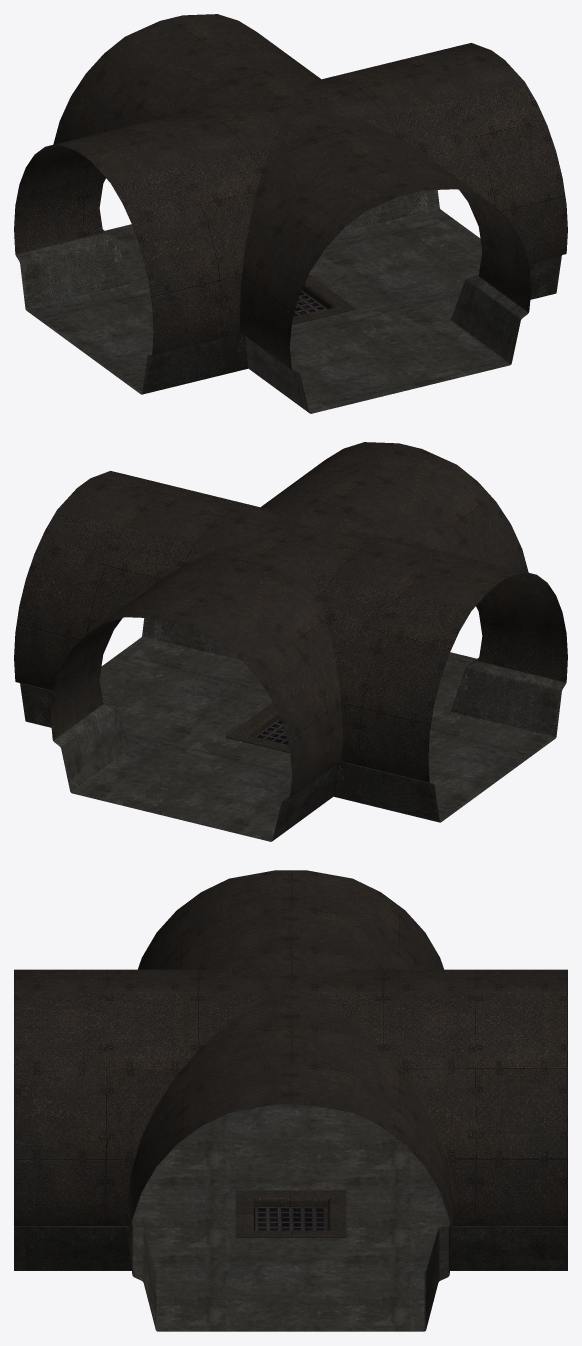
The model's file is tunnel_junction_four_way.glb.
3 views of the same model, one above another, from view 1: azimuth 30°, elevation 25°; view 2: azimuth 150°, elevation 25°; view 3: azimuth 270°, elevation 25° (orthographic). The views are drawn at different scales.
Parts seen in each view (by area): view 1: tunnel_junction_four_way; view 2: tunnel_junction_four_way; view 3: tunnel_junction_four_way.
Part boxes in pixels (bbox=[...]): tunnel_junction_four_way: bbox=[14, 14, 567, 413]; tunnel_junction_four_way: bbox=[14, 442, 567, 841]; tunnel_junction_four_way: bbox=[14, 870, 567, 1331].
Size of the model in its own units: 6 by 2.82 by 6.
4 materials, 4 textured.
